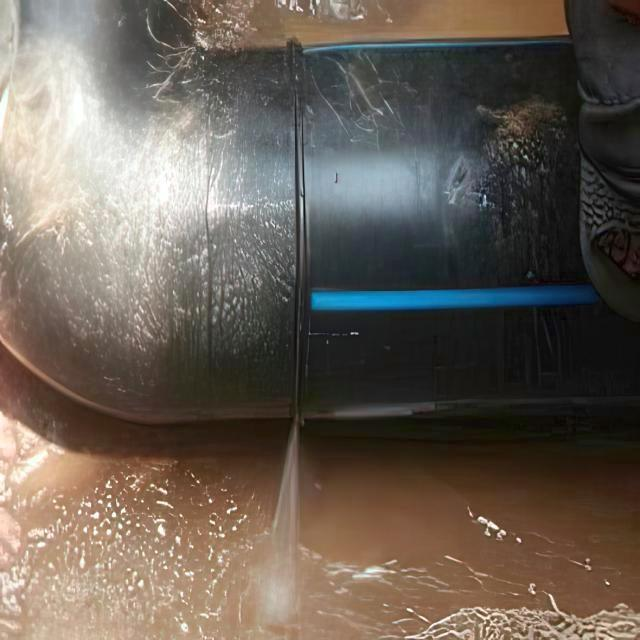pipe burst: (261, 407, 313, 620)
water accumulation: (1, 414, 640, 640), (199, 1, 568, 45)
